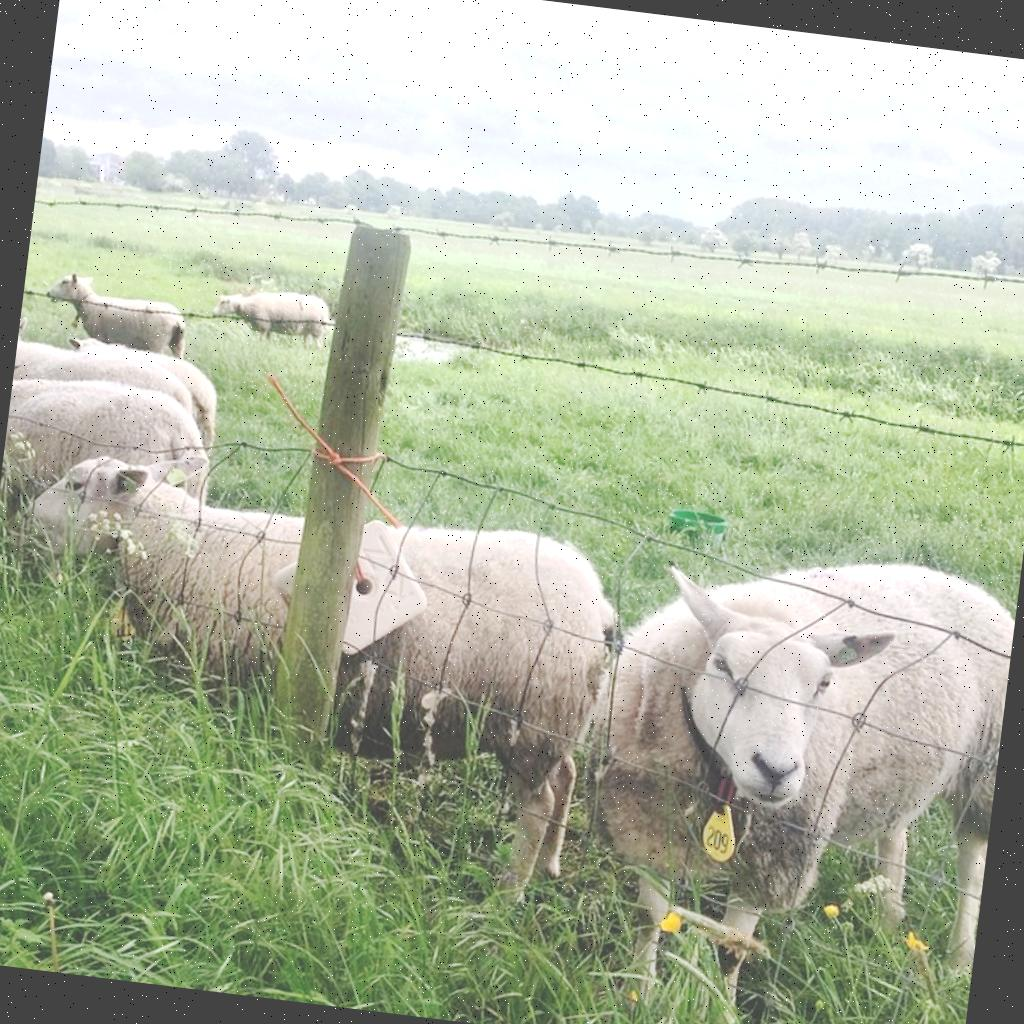Sheep: (0, 435, 638, 913), (564, 527, 1018, 1024), (0, 374, 224, 529), (53, 334, 225, 448), (11, 316, 200, 414), (42, 266, 194, 358), (208, 292, 330, 352)
